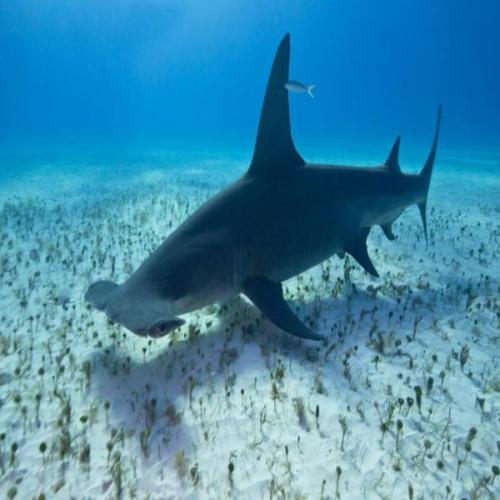shark-endangered: (85, 34, 444, 340)
